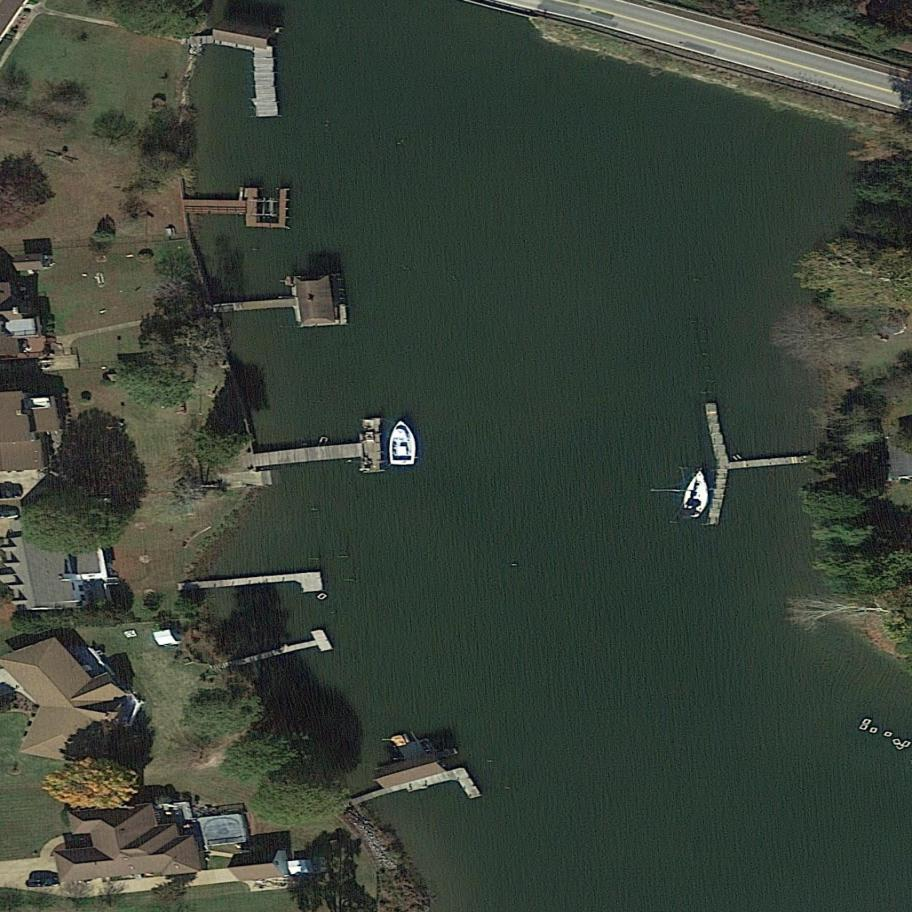ship: (676, 462, 718, 526), (390, 420, 417, 466)
